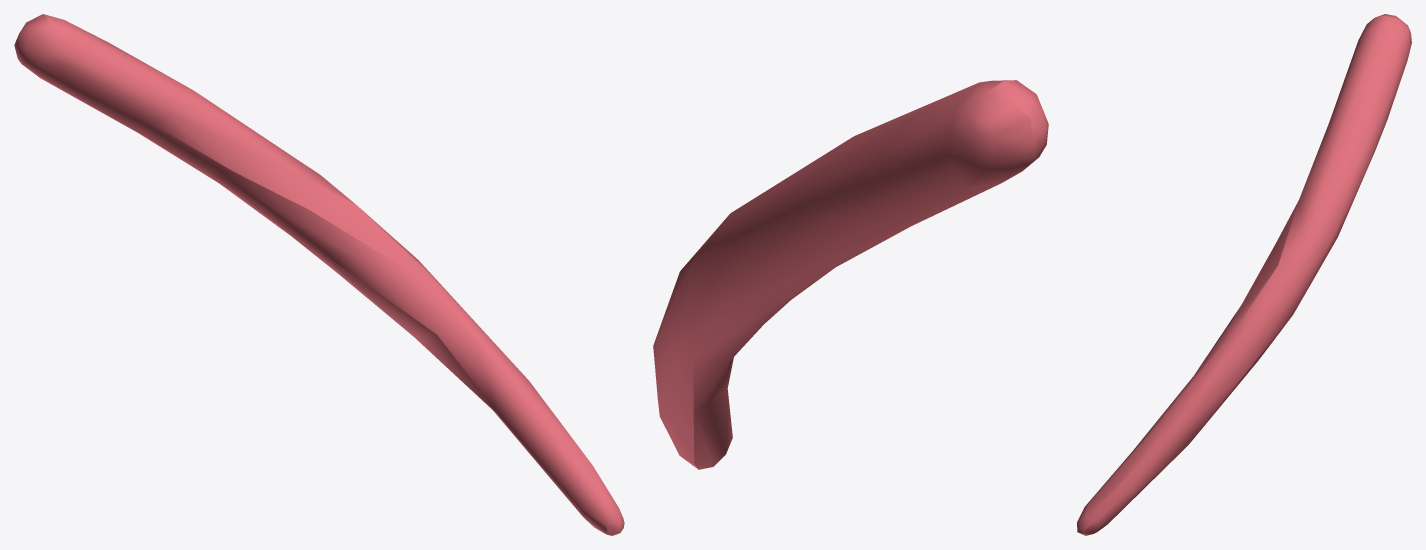
File: fma68131_fj5974.glb
3 renders of one model, left to right at view 1: azimuth 30°, elevation 25°; view 2: azimuth 150°, elevation 25°; view 3: azimuth 270°, elevation 25°, orthographic. The views are drawn at different scales.
Parts seen in each view (by area): view 1: FMA68131_FJ5974; view 2: FMA68131_FJ5974; view 3: FMA68131_FJ5974.
Part boxes in pixels (x1=…): FMA68131_FJ5974: x1=14, y1=14, x2=624, y2=535; FMA68131_FJ5974: x1=653, y1=80, x2=1048, y2=469; FMA68131_FJ5974: x1=1077, y1=14, x2=1411, y2=535.
Bounding box in the file's own units: 0.0142 × 0.0155 × 0.0125.
